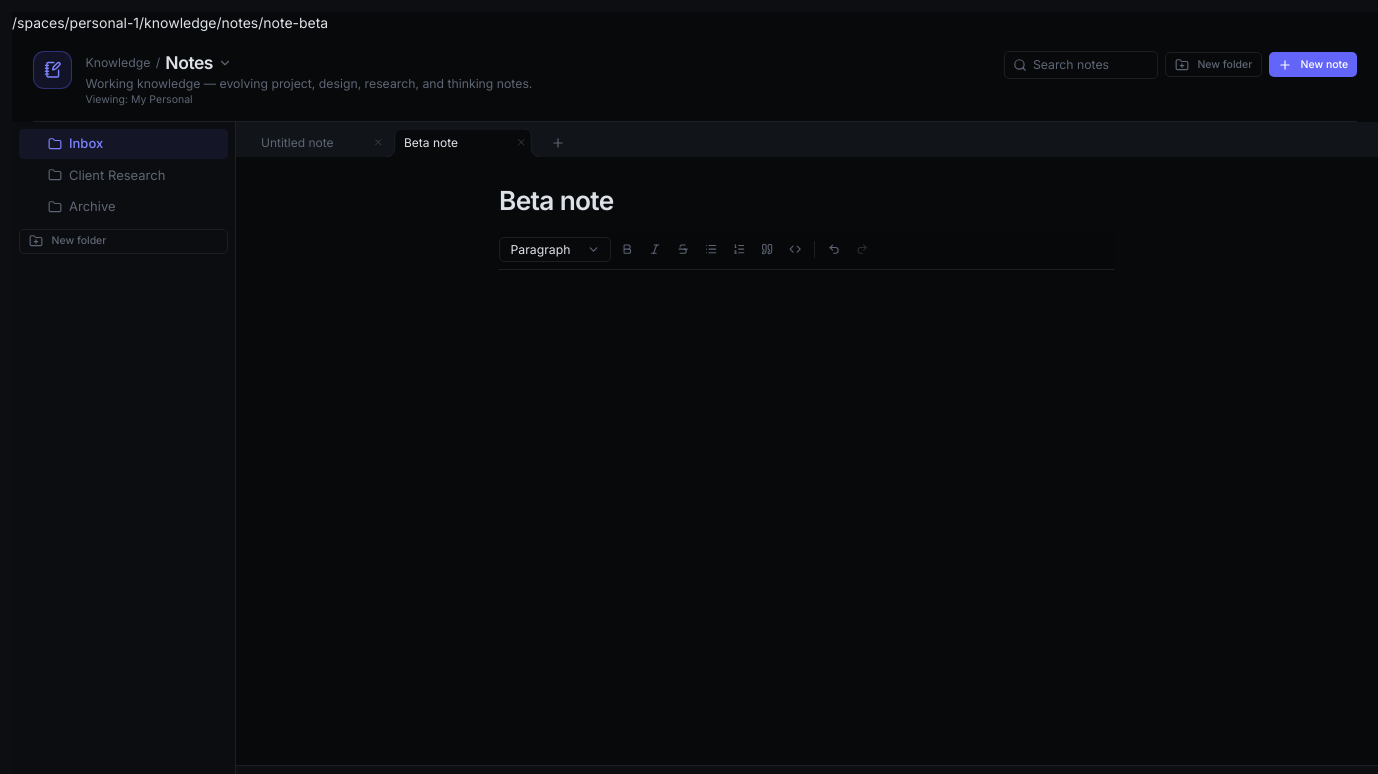
Test: Knowledge routing › keeps open note tabs in the Chrome-style equal-width tab contract
expect the 2nd icon with class "note-tab__bg" is shown: met, box [386,128,540,156]
expect the element with class "note-tab__hover" is shown: met, box [251,132,389,154]
Click the tab "Untitled note" at [320, 142], box [243,128,397,156]
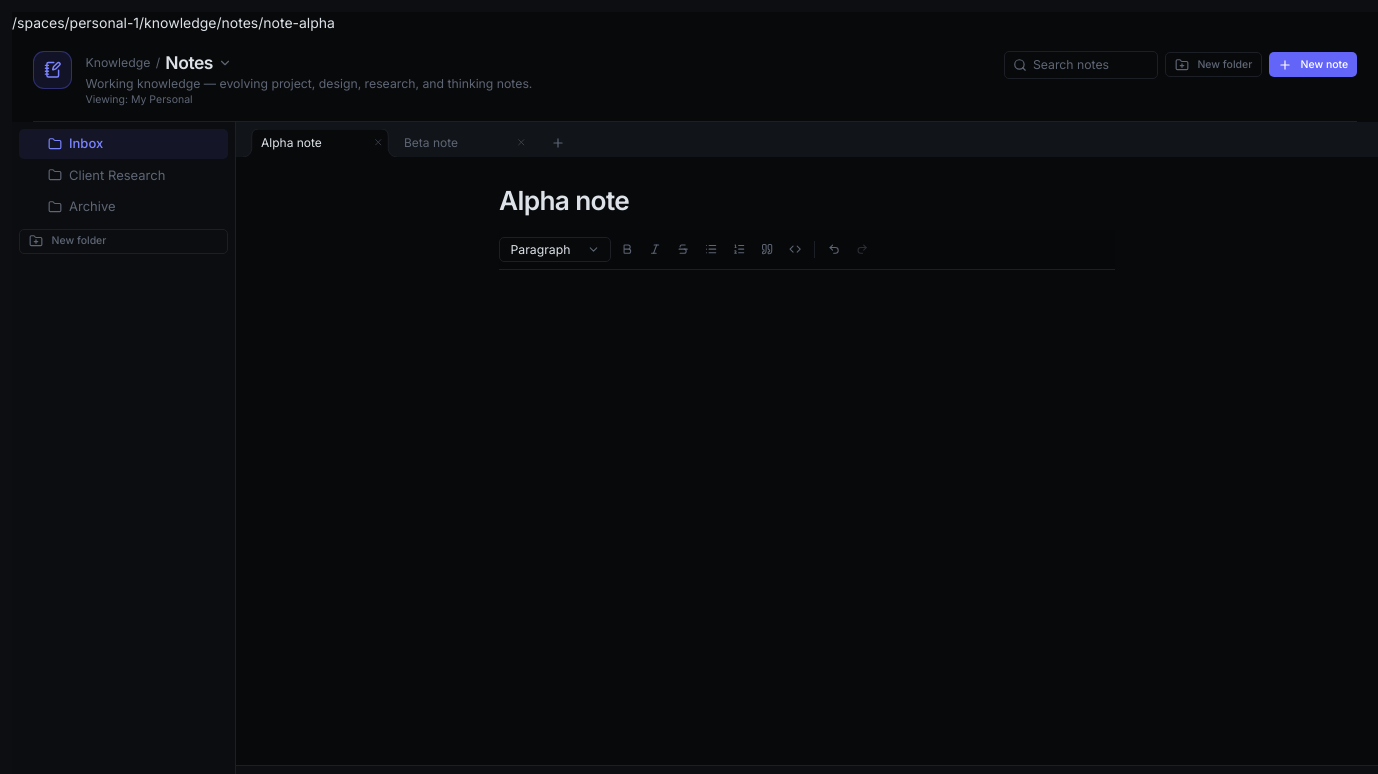
expect the text with test id "loc" reads "/spaces/personal-1/knowledge/notes/note-alpha": met, box [12,14,335,31]
Click the button named "Close Beta note" at [521, 142], box [514,136,528,150]
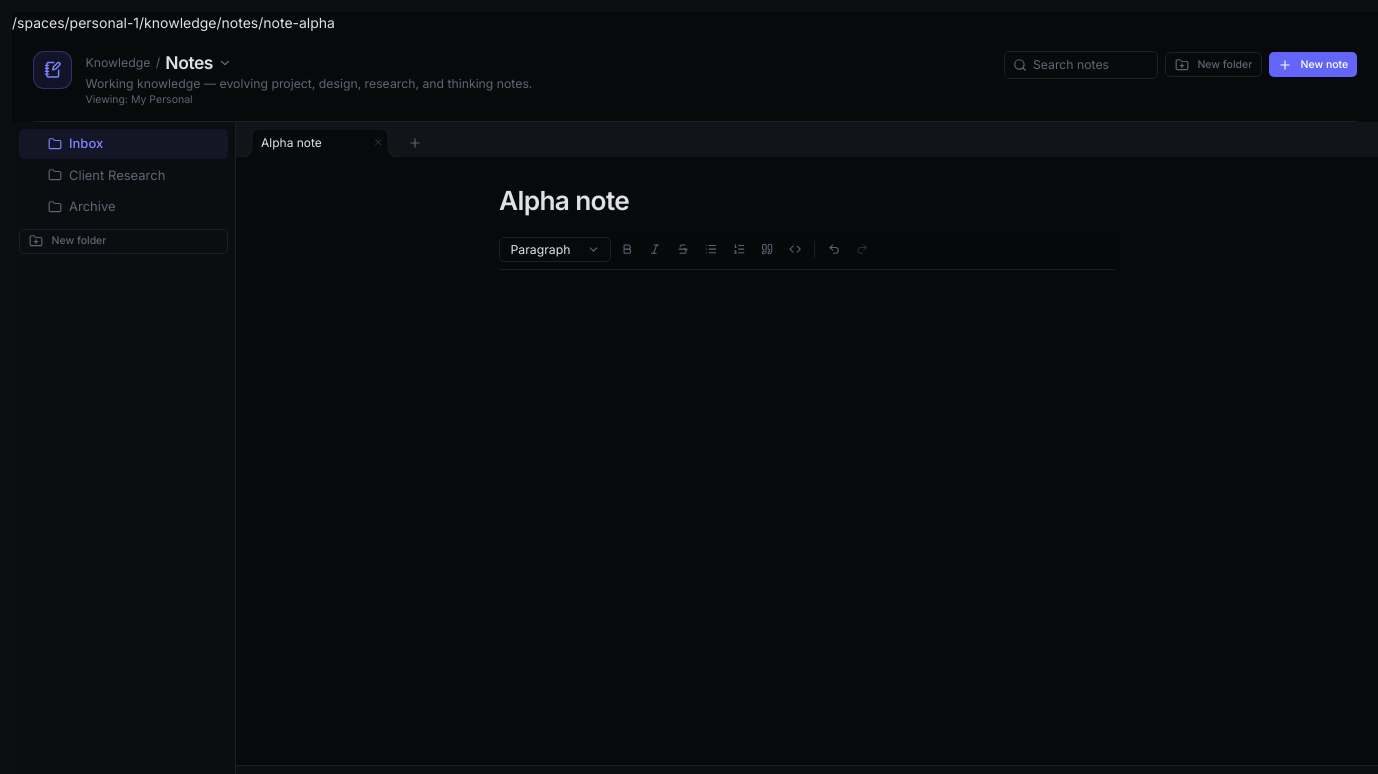
expect the text with test id "loc" reads "/spaces/personal-1/knowledge/notes/note-alpha": met, box [12,14,335,31]
expect the tab "Beta note" is gone: met
